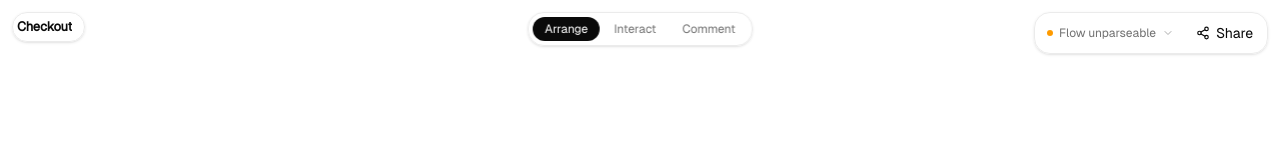
Test: PrototypeChrome › says unparseable when the flow document has no screens table
Click the button with aria-label "flow coverage" at (1111, 33), box [1039,21,1182,45]
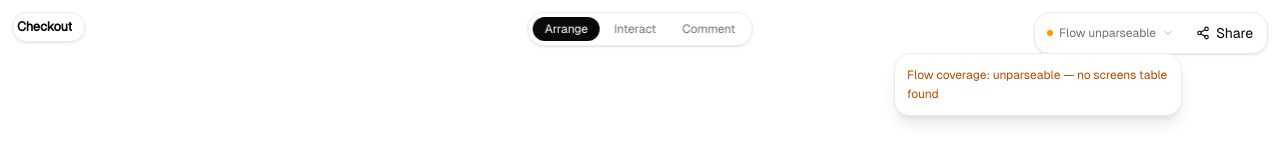
Check: the text "Flow coverage: unparseable — no screens table found" is shown, box [907,66,1169,103]
